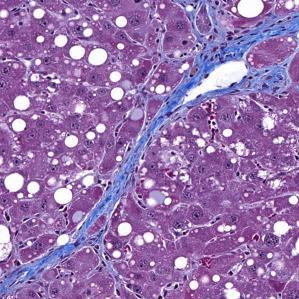fibrosis: (7, 231, 110, 288), (180, 16, 295, 60), (105, 119, 156, 196), (249, 63, 296, 101)
